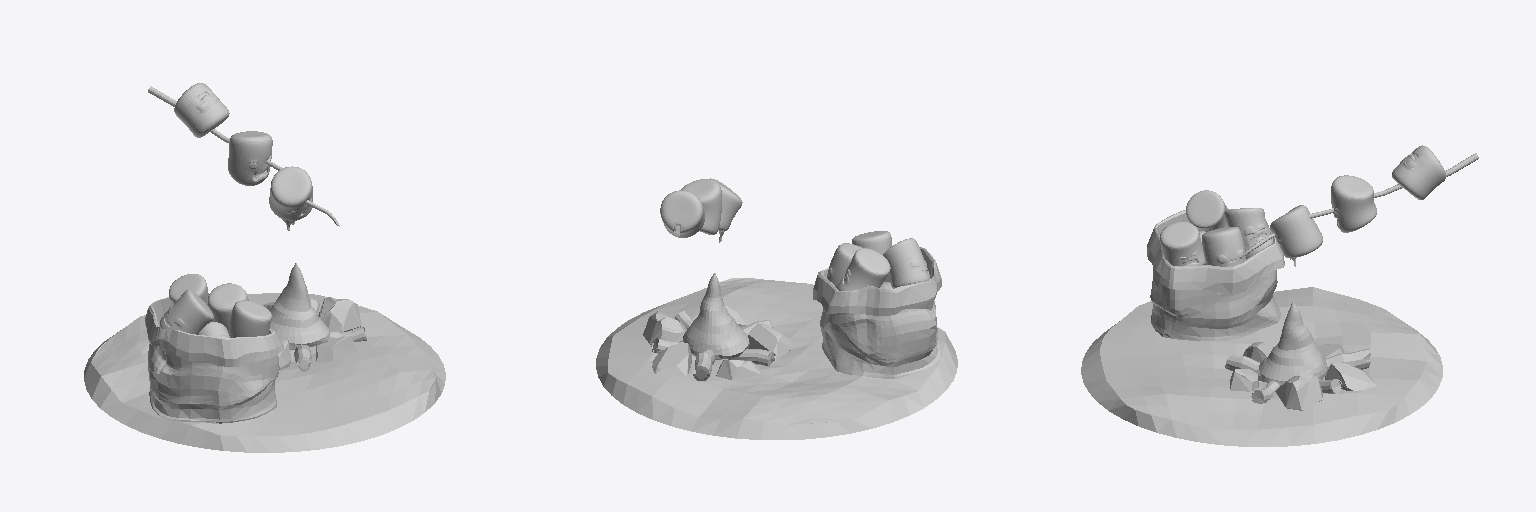
File: marshmallows.obj
3 views of the same model, side by side, from view 1: azimuth 30°, elevation 25°; view 2: azimuth 150°, elevation 25°; view 3: azimuth 270°, elevation 25° (orthographic).
Visible parts, largest first — view 1: MallowScene.003_Cylinder.003; view 2: MallowScene.003_Cylinder.003; view 3: MallowScene.003_Cylinder.003.
Boxes of the visible parts, x1,y1,x2,y2 form: MallowScene.003_Cylinder.003: [84, 83, 445, 452]; MallowScene.003_Cylinder.003: [596, 178, 957, 439]; MallowScene.003_Cylinder.003: [1081, 145, 1478, 446].
Bounding box in the file's own units: 1.57 × 1.1 × 1.73.